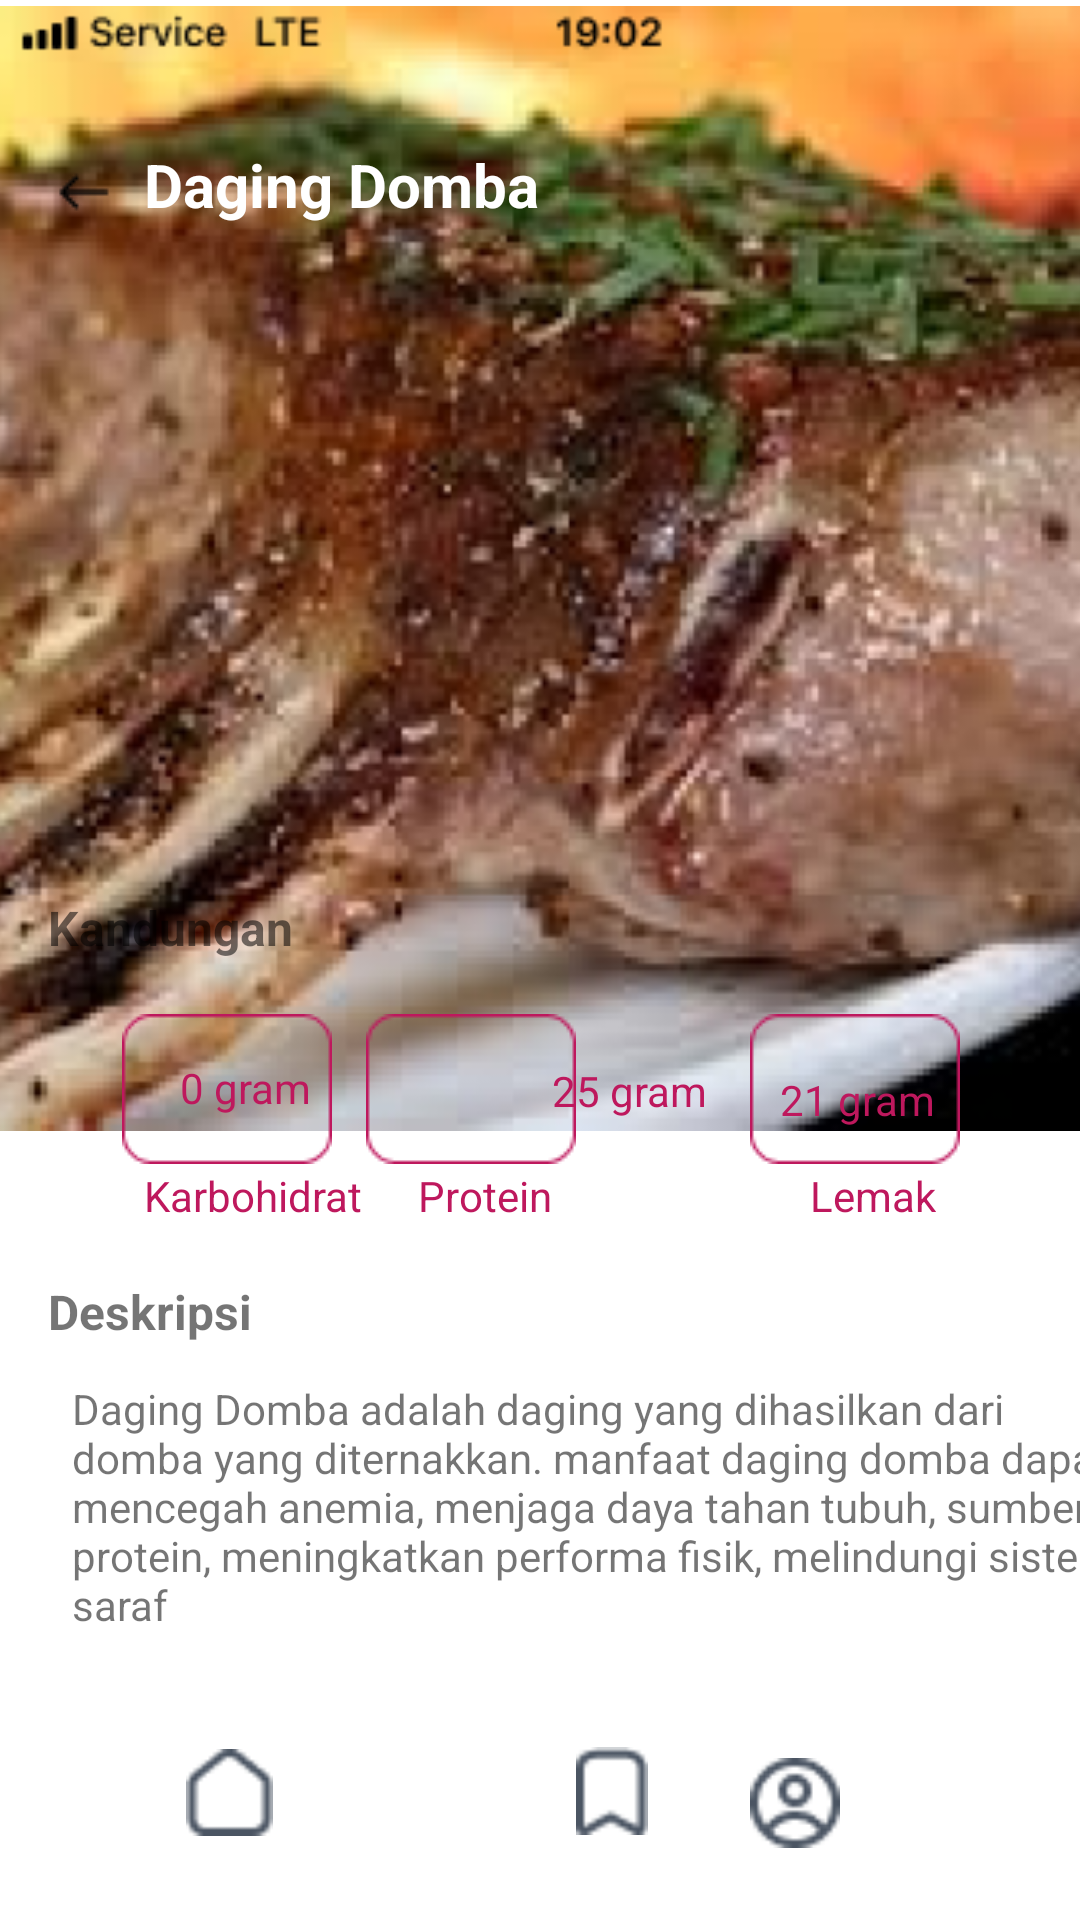

Screen size 1080x1920. Icon name, then its center in pixels as [x,y]:
homee: [229,1792]
iconback: [84,192]
simpan: [612,1791]
